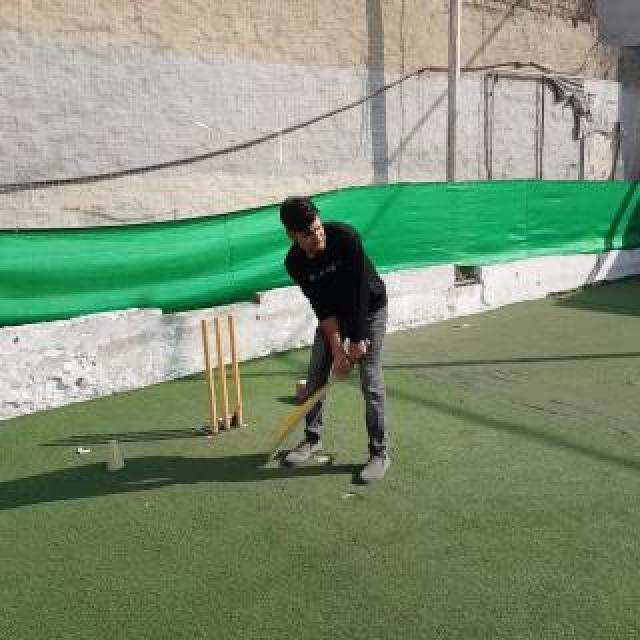bat: (268, 338, 370, 460)
